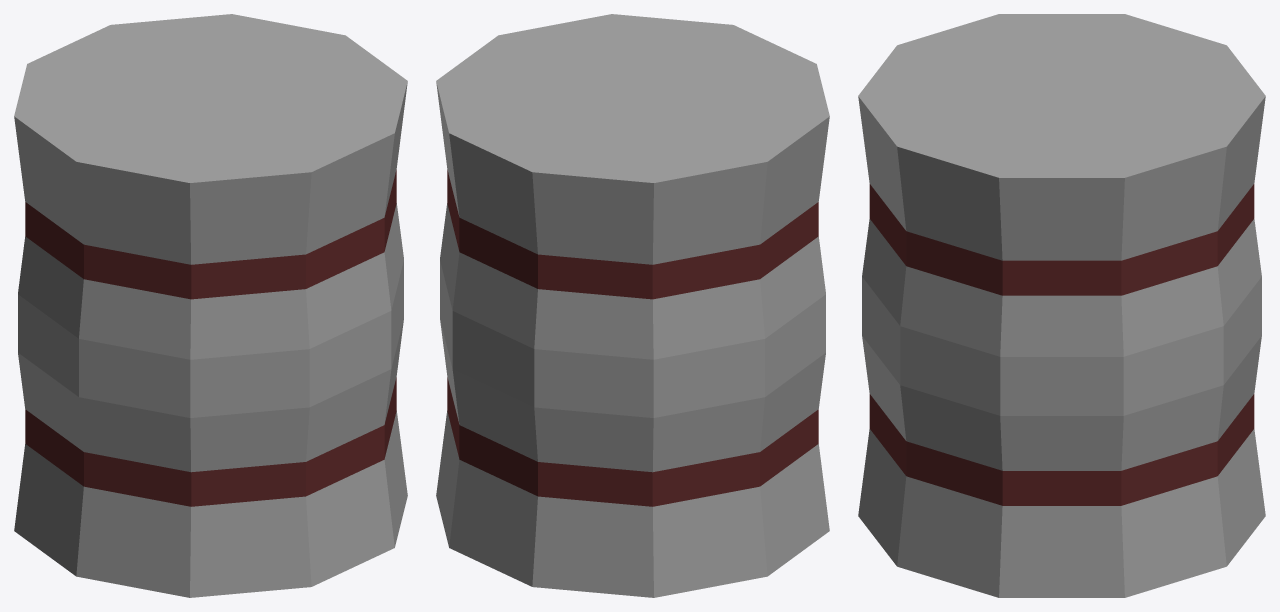
The model's file is bandages.glb.
The picture shows the model from 3 angles, left to right: view 1: azimuth 30°, elevation 25°; view 2: azimuth 150°, elevation 25°; view 3: azimuth 270°, elevation 25°; orthographic projection.
Visible parts, largest first — view 1: bandages; view 2: bandages; view 3: bandages.
Part boxes in pixels (box(x1,y1,x2,y2)): bandages: box(14, 14, 407, 597); bandages: box(436, 14, 829, 597); bandages: box(858, 14, 1265, 597).
Size of the model in its own units: 0.0836 by 0.1 by 0.0879.
